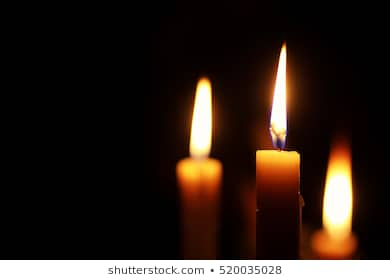Fire: (322, 134, 356, 242), (189, 75, 214, 162), (270, 40, 289, 148)
